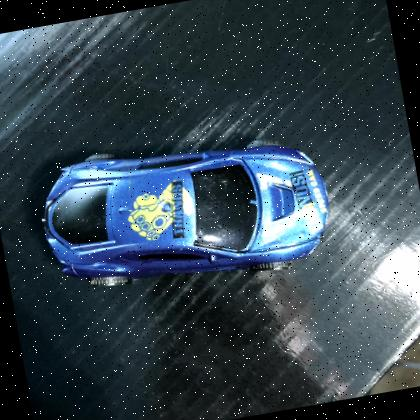Car: (26, 108, 348, 317)
